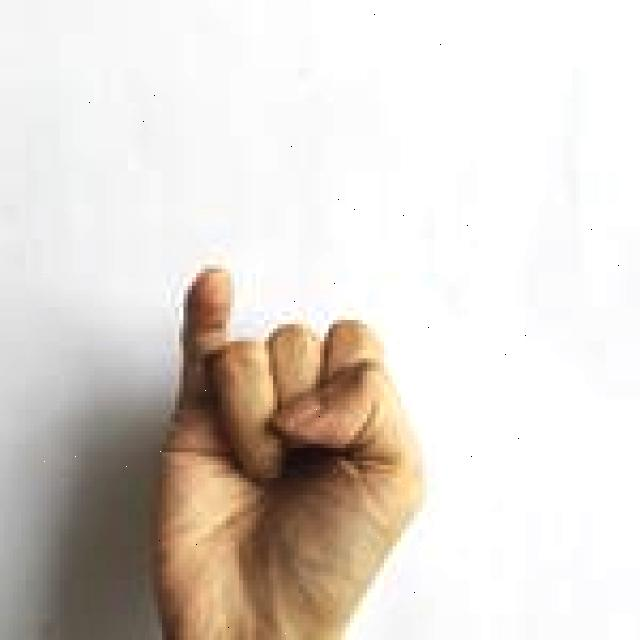I: (143, 257, 433, 640)
